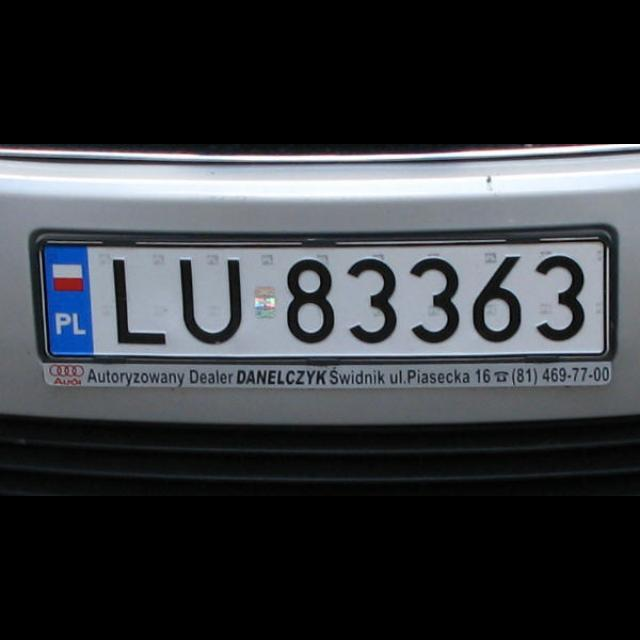license-plates: (42, 232, 610, 358)
